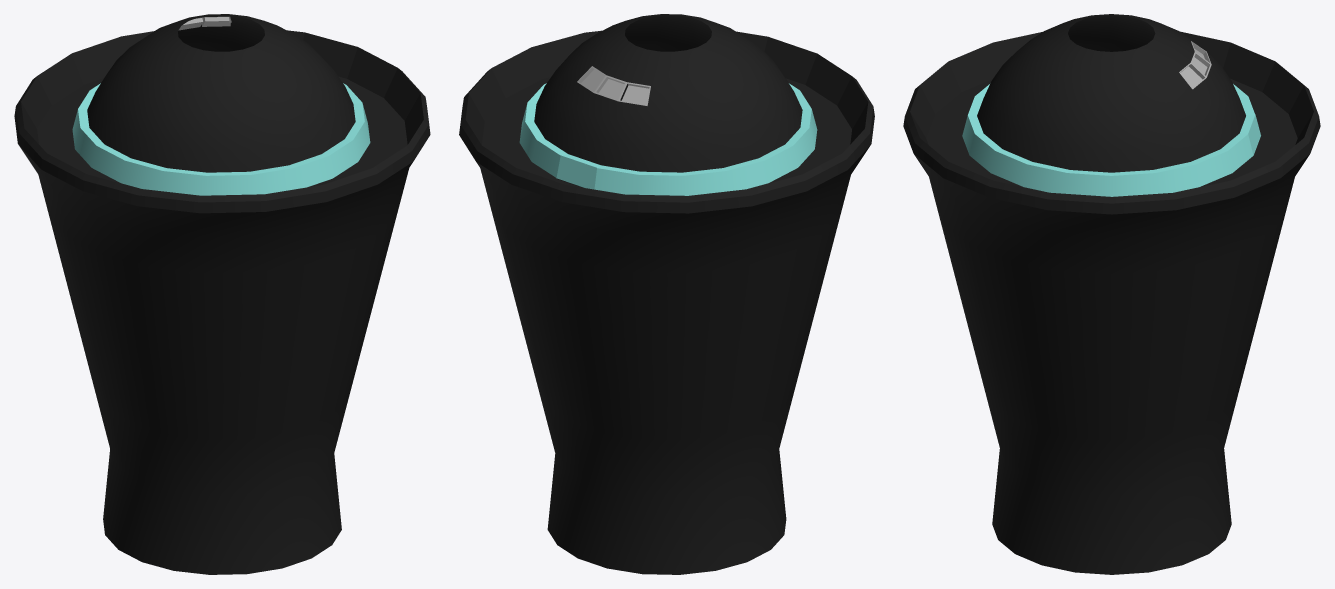
File: rubbish.fbx
3 views of the same model, side by side, from view 1: azimuth 30°, elevation 25°; view 2: azimuth 150°, elevation 25°; view 3: azimuth 270°, elevation 25° (orthographic).
Visible parts, largest first — view 1: bin, top, circle_base; view 2: bin, top, circle_base, bottoni; view 3: bin, top, circle_base, bottoni.
Boxes of the visible parts, x1,y1,x2,y2 form: bin: (14, 30, 430, 574); top: (87, 14, 355, 172); circle_base: (72, 83, 370, 195); bin: (459, 30, 874, 574); top: (534, 14, 802, 187); circle_base: (519, 83, 817, 195); bottoni: (577, 66, 650, 105); bin: (903, 31, 1320, 574); top: (977, 14, 1260, 172); circle_base: (962, 84, 1260, 196); bottoni: (1179, 41, 1211, 89).
Bounding box in the file's own units: 1.83 × 2.38 × 1.83.
